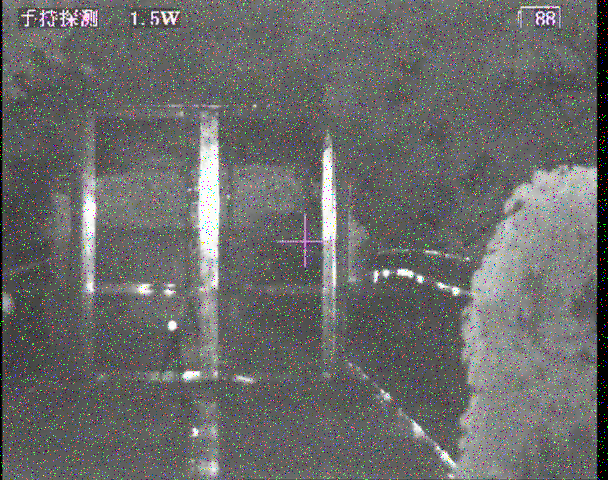my: (166, 320, 178, 332)
